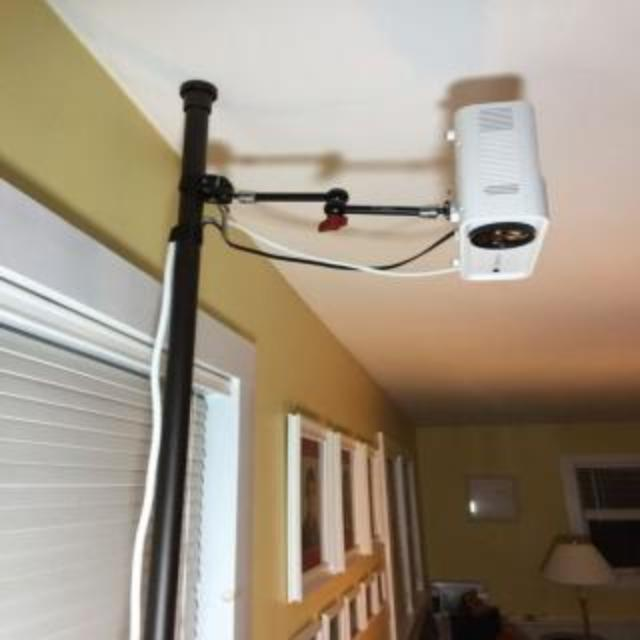Projector: (450, 100, 548, 284)
